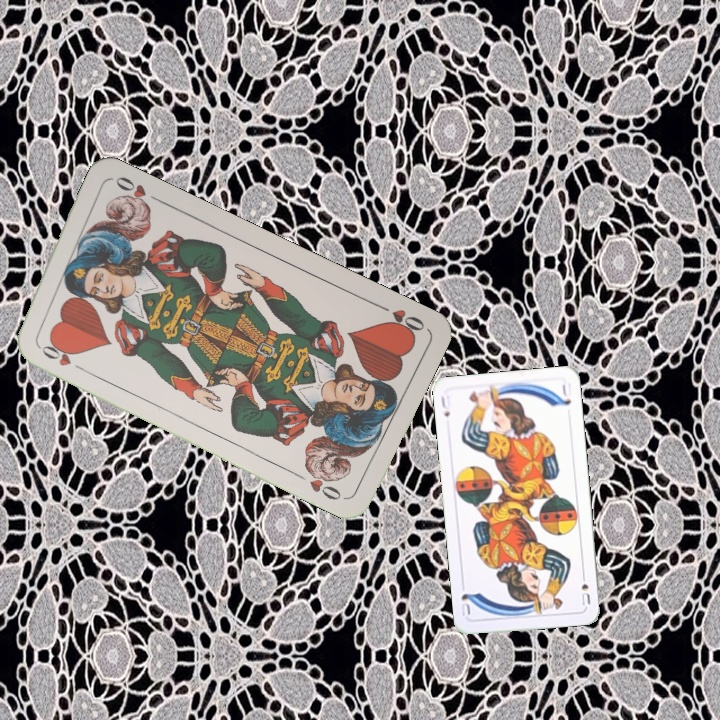HO: (372, 300, 427, 338), (32, 338, 86, 373)
SU: (577, 568, 593, 608), (437, 391, 453, 419)
